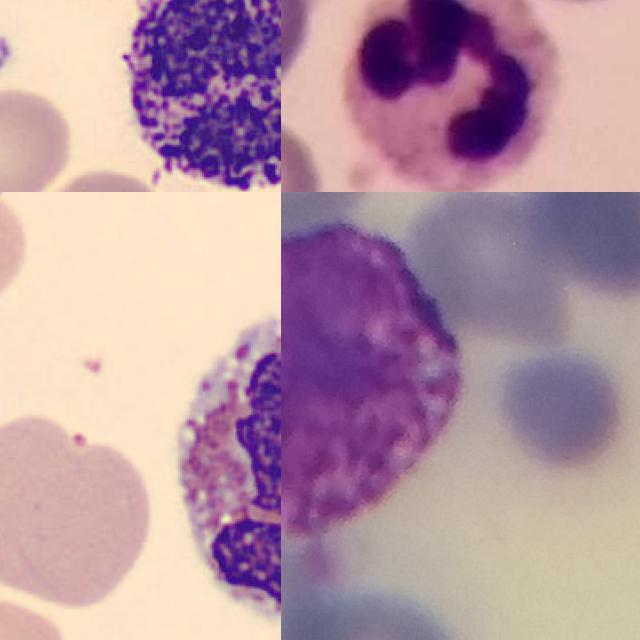Basophil: (281, 221, 467, 538), (106, 0, 281, 192)
Eosinophil: (155, 302, 281, 638)
Neutrophil: (338, 0, 560, 191)
Platelets: (0, 32, 12, 92)
RBC: (0, 409, 158, 612), (0, 81, 77, 192), (0, 192, 34, 316), (33, 164, 177, 192)
